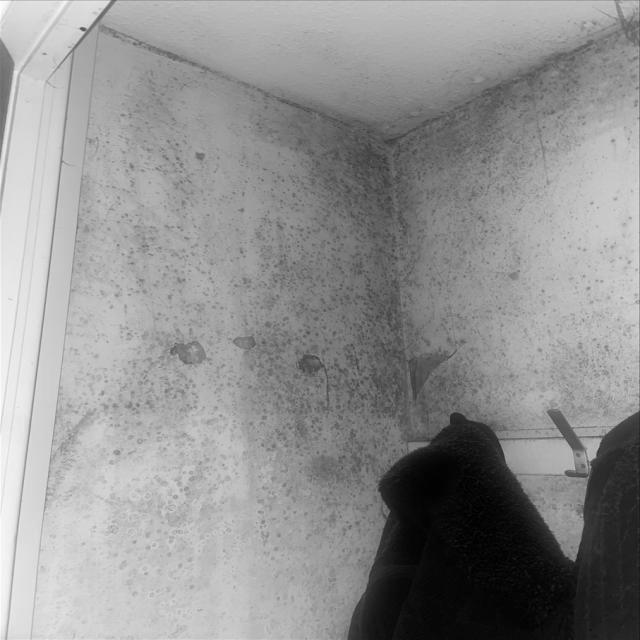stain marks: (45, 24, 637, 640)
